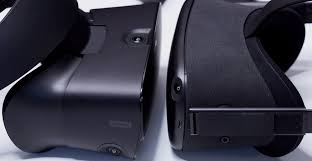oculus: (3, 7, 156, 159), (165, 4, 312, 160)
